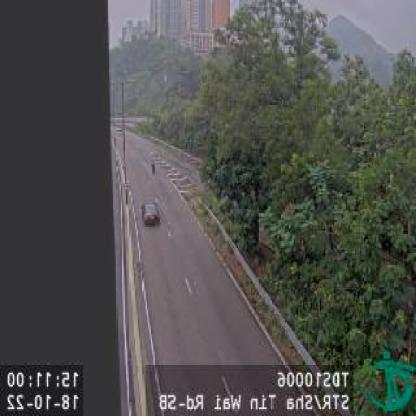Car: (142, 200, 160, 227)
